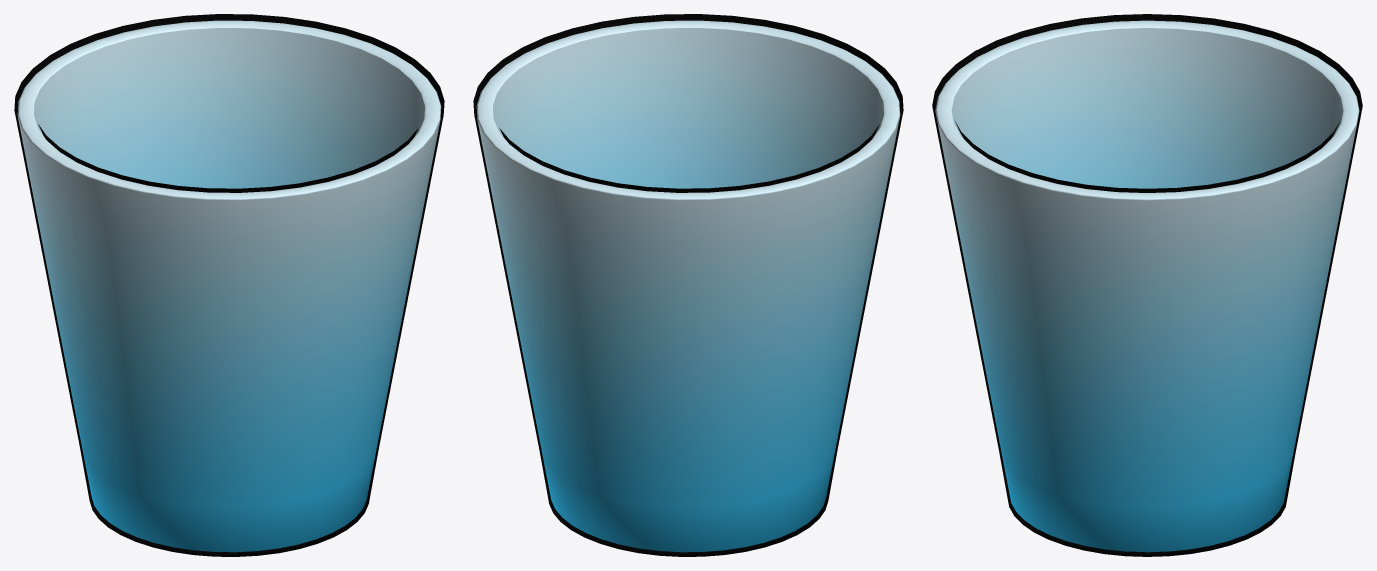
The model's file is Glass.fbx.
3 views of the same model, side by side, from view 1: azimuth 30°, elevation 25°; view 2: azimuth 150°, elevation 25°; view 3: azimuth 270°, elevation 25° (orthographic).
Parts seen in each view (by area): view 1: Glass, Glass_outline; view 2: Glass, Glass_outline; view 3: Glass, Glass_outline.
Part boxes in pixels (x1=…): Glass: x1=17, y1=20, x2=441, y2=552; Glass_outline: x1=14, y1=14, x2=444, y2=556; Glass: x1=476, y1=20, x2=900, y2=552; Glass_outline: x1=473, y1=14, x2=903, y2=556; Glass: x1=935, y1=20, x2=1359, y2=552; Glass_outline: x1=932, y1=14, x2=1362, y2=556.
Bounding box in the file's own units: 10.81 × 10.95 × 10.81.
